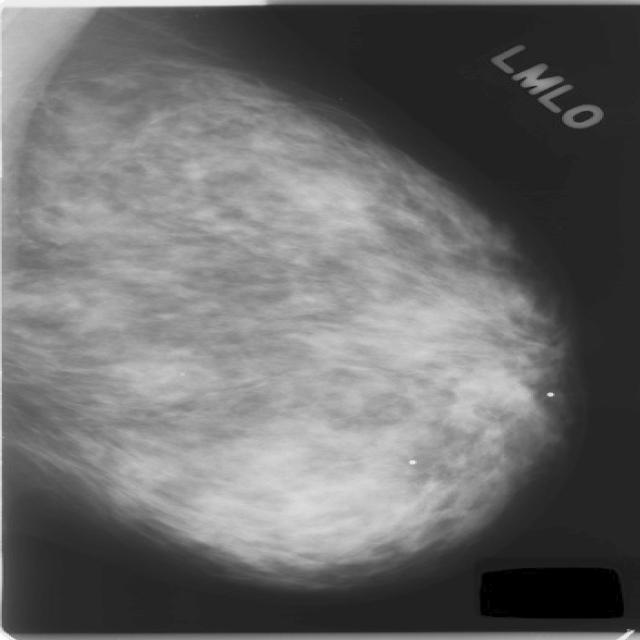tumour: (444, 366, 539, 431)
